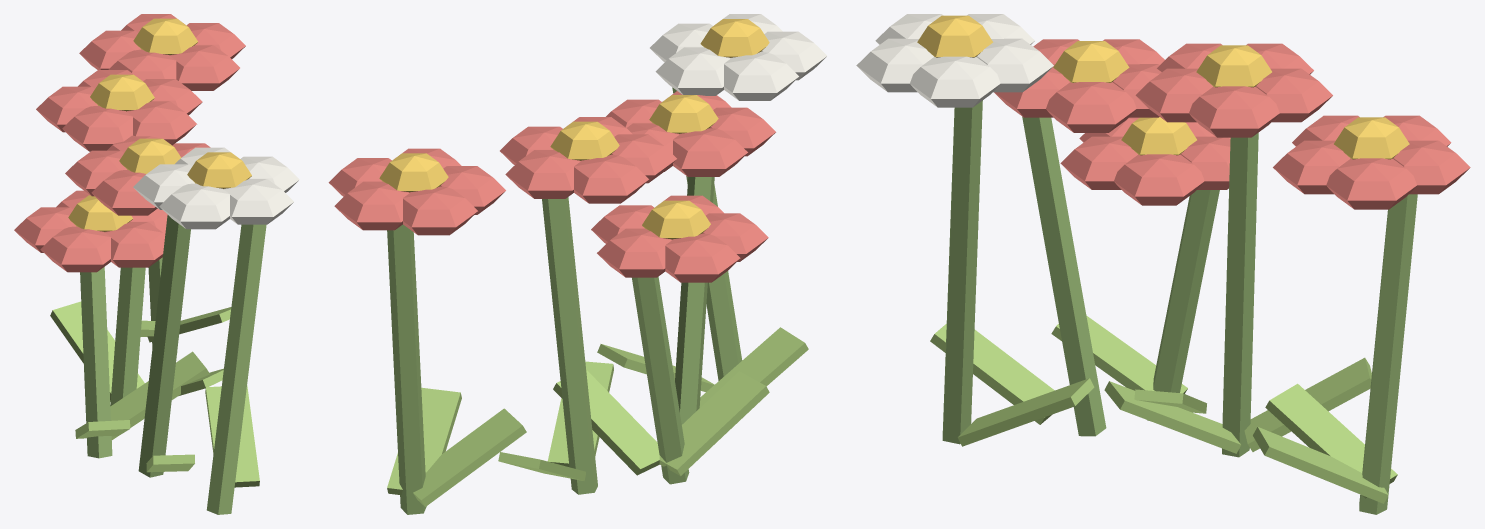
File: flowers_red.glb
The picture shows the model from 3 angles, left to right: view 1: azimuth 30°, elevation 25°; view 2: azimuth 150°, elevation 25°; view 3: azimuth 270°, elevation 25°; orthographic projection. The views are drawn at different scales.
Visible parts, largest first — view 1: flowers_red; view 2: flowers_red; view 3: flowers_red.
Boxes of the visible parts, left/top/right/bottom form: flowers_red: left=14, top=14, right=299, bottom=514; flowers_red: left=328, top=14, right=826, bottom=514; flowers_red: left=856, top=14, right=1470, bottom=514.
Size of the model in its own units: 0.5579 by 0.6623 by 0.8773.
